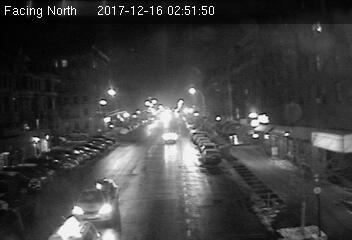car: (72, 179, 120, 225), (46, 217, 101, 240), (202, 148, 222, 162)
